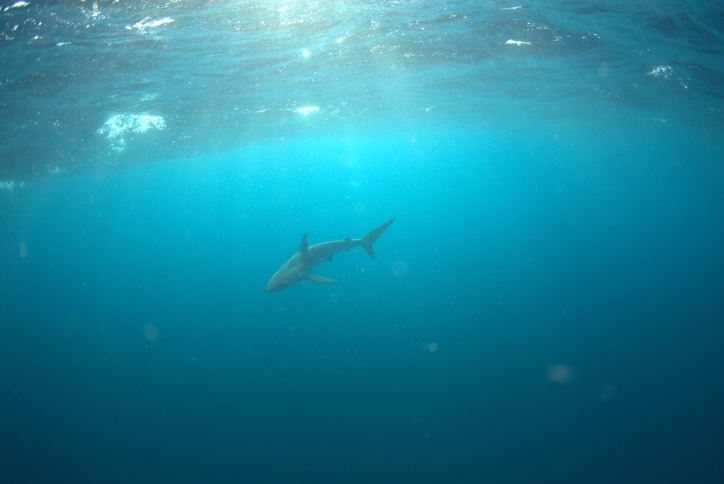Sedoso: (257, 209, 398, 308)
